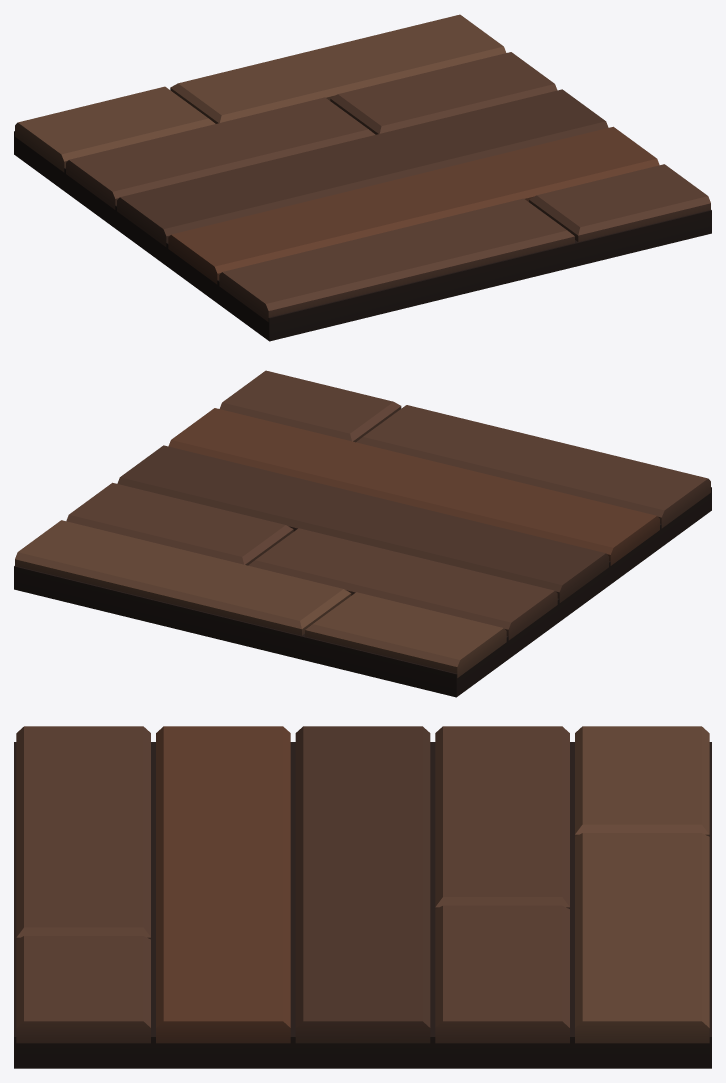
The model's file is floor_planks_dark_small_D.glb.
The picture shows the model from 3 angles, top to bottom: view 1: azimuth 30°, elevation 25°; view 2: azimuth 150°, elevation 25°; view 3: azimuth 270°, elevation 25°; orthographic projection. The views are drawn at different scales.
Parts seen in each view (by area): view 1: Item; view 2: Item; view 3: Item.
Part boxes in pixels (x1,y1,x2,y2): Item: [14, 14, 711, 341]; Item: [14, 370, 711, 697]; Item: [14, 726, 711, 1068].
Size of the model in its own units: 2 by 0.15 by 2.
1 material, 1 textured.
